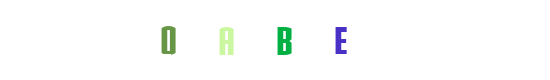0: (188, 0, 268, 80)
A: (191, 0, 271, 80)
B: (235, 0, 315, 80)
E: (300, 0, 380, 80)
